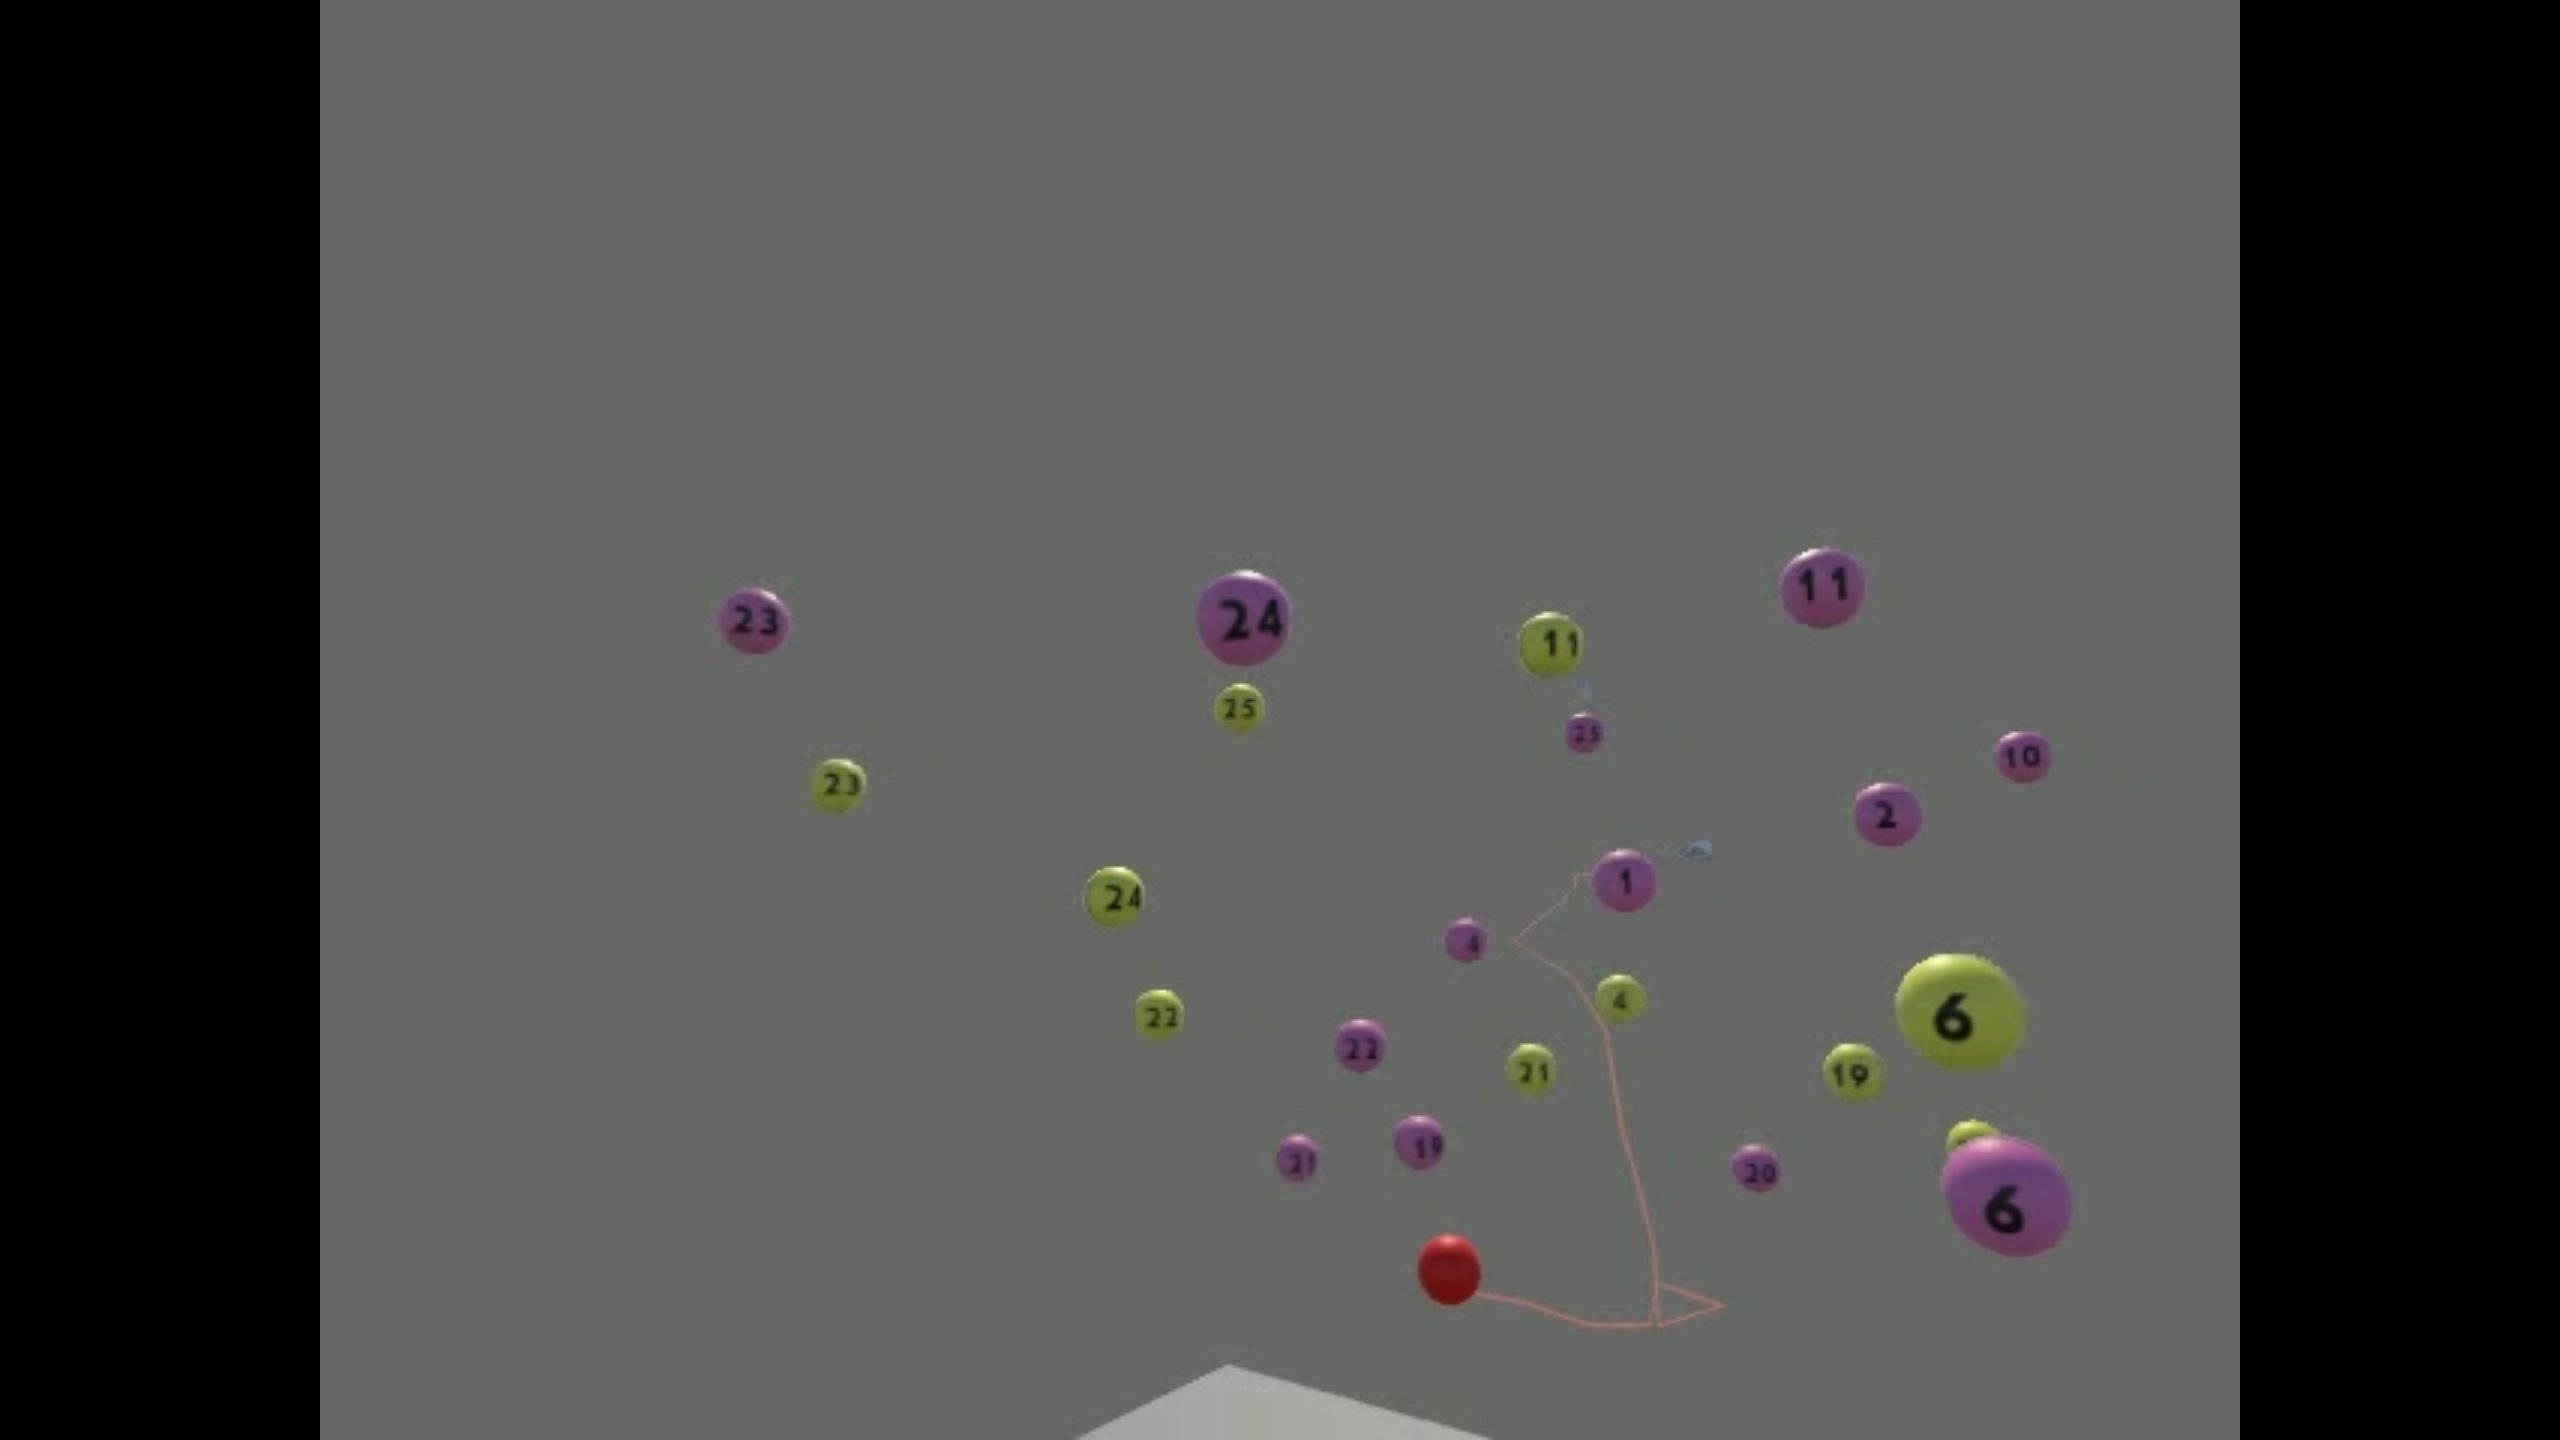ball_01_pink: (1593, 849, 1658, 913)
ball_02_pink: (1851, 782, 1924, 849)
ball_04_pink: (1445, 920, 1486, 962)
ball_04_yellow: (1595, 974, 1646, 1023)
ball_06_pink: (1941, 1138, 2073, 1254)
ball_06_yellow: (1895, 951, 2025, 1073)
ball_10_pink: (1996, 730, 2050, 782)
ball_11_pink: (1781, 547, 1860, 626)
ball_11_yellow: (1517, 614, 1584, 675)
ball_19_pink: (1393, 1116, 1444, 1167)
ball_19_yellow: (1825, 1044, 1887, 1101)
ball_20_pink: (1734, 1143, 1783, 1194)
ball_21_pink: (1275, 1136, 1320, 1182)
ball_21_yellow: (1507, 1043, 1558, 1099)
ball_22_pink: (1335, 1018, 1385, 1073)
ball_22_yellow: (1134, 988, 1183, 1037)
ball_23_pink: (717, 591, 791, 656)
ball_23_yellow: (812, 758, 865, 812)
ball_24_pink: (1199, 571, 1291, 666)
ball_24_yellow: (1085, 865, 1145, 925)
ball_25_pink: (1565, 714, 1605, 754)
ball_25_yellow: (1213, 686, 1264, 733)
ball_unknown: (1946, 1118, 1999, 1141)
user_cursor: (1419, 1238, 1480, 1305)
